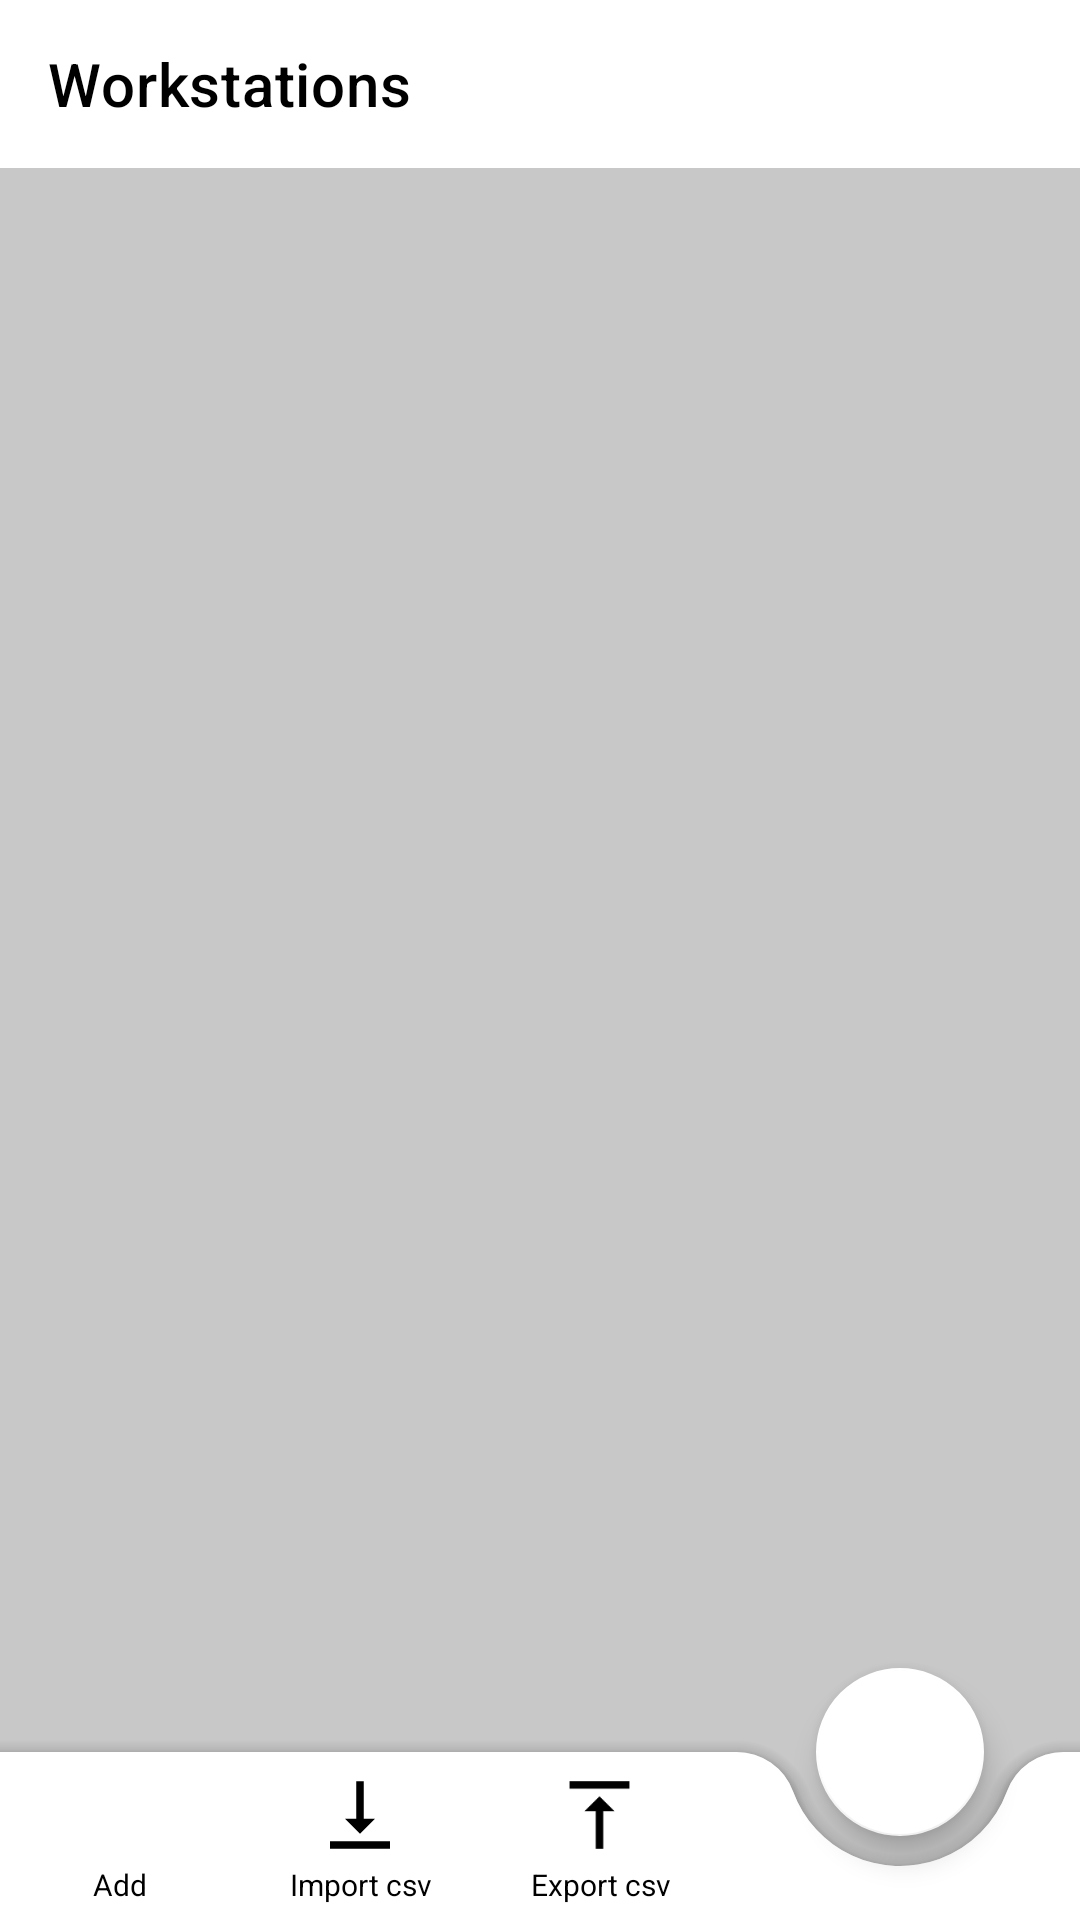

Named icons in this screenshot (1080x1920) and their centers, [x,y]:
vertical align bottom: [360,1815]
vertical align top: [599,1815]
